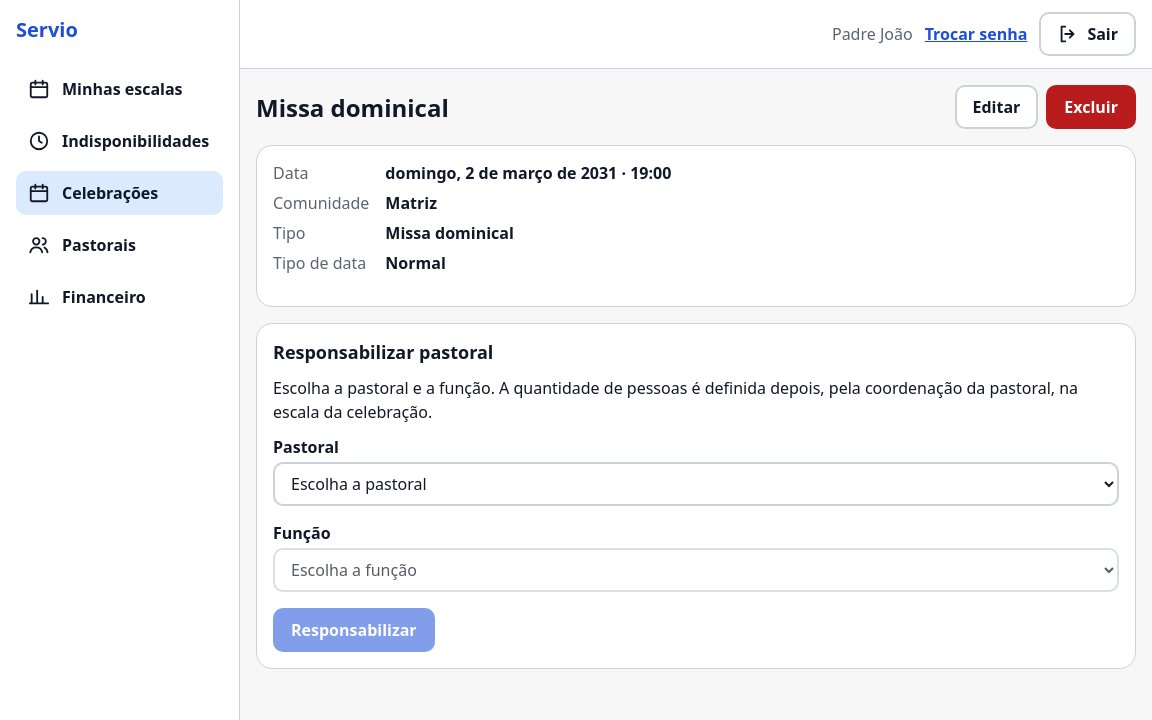
Scenario: Detalhe da celebração (área do padre) › editar salva os campos alterados
Step 1. Click the button "Editar" → point(996, 107), box x1=954 y1=85 x2=1038 y2=129
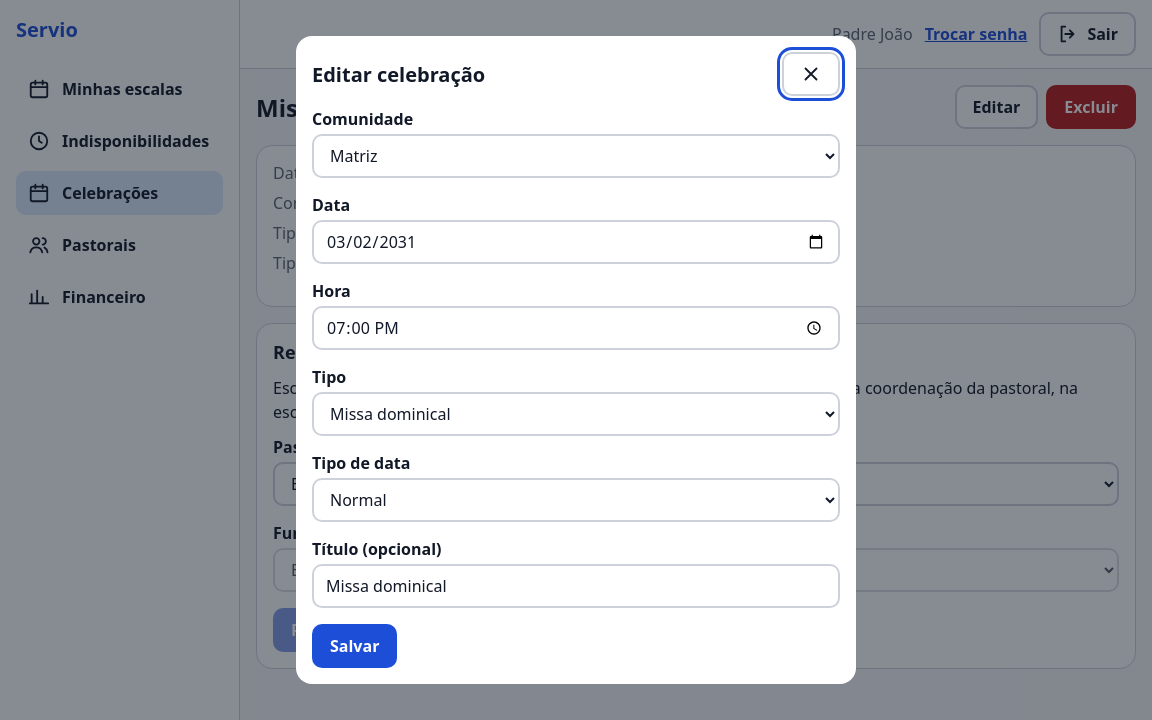
Step 2. Replace the text in the field labelled "Título (opcional)" with "Missa das famílias" → point(576, 586), box x1=312 y1=564 x2=840 y2=608
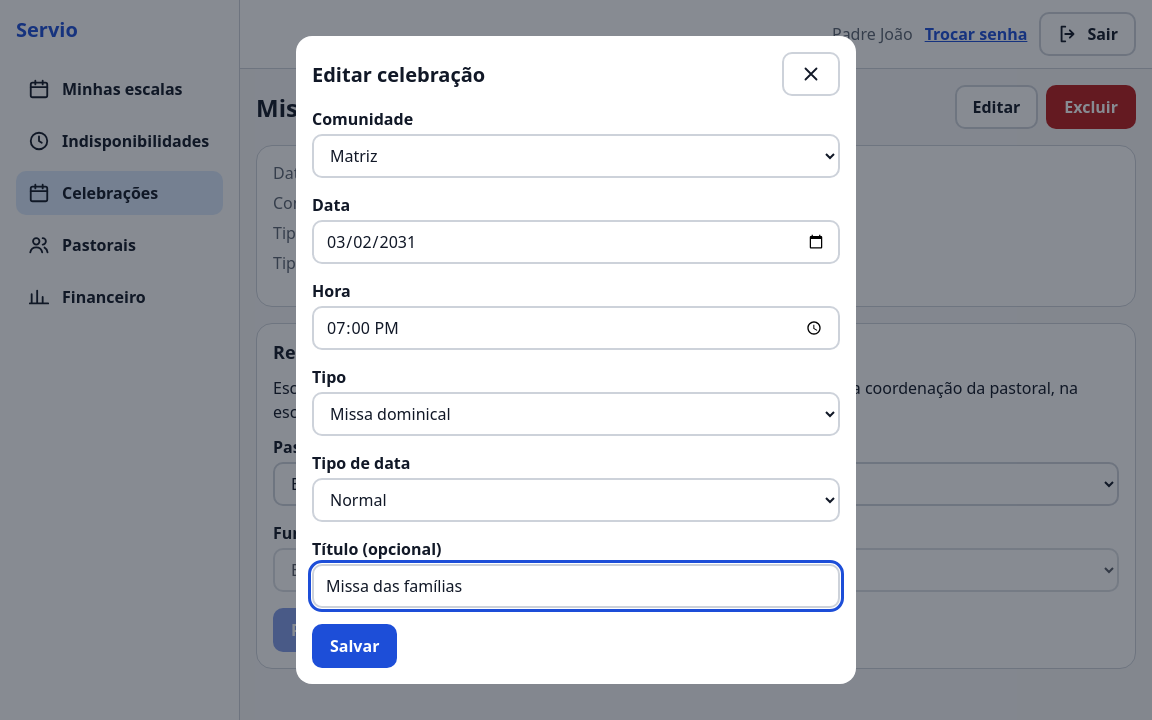
Step 3. Click the button "Salvar" → point(355, 646), box x1=312 y1=624 x2=397 y2=668
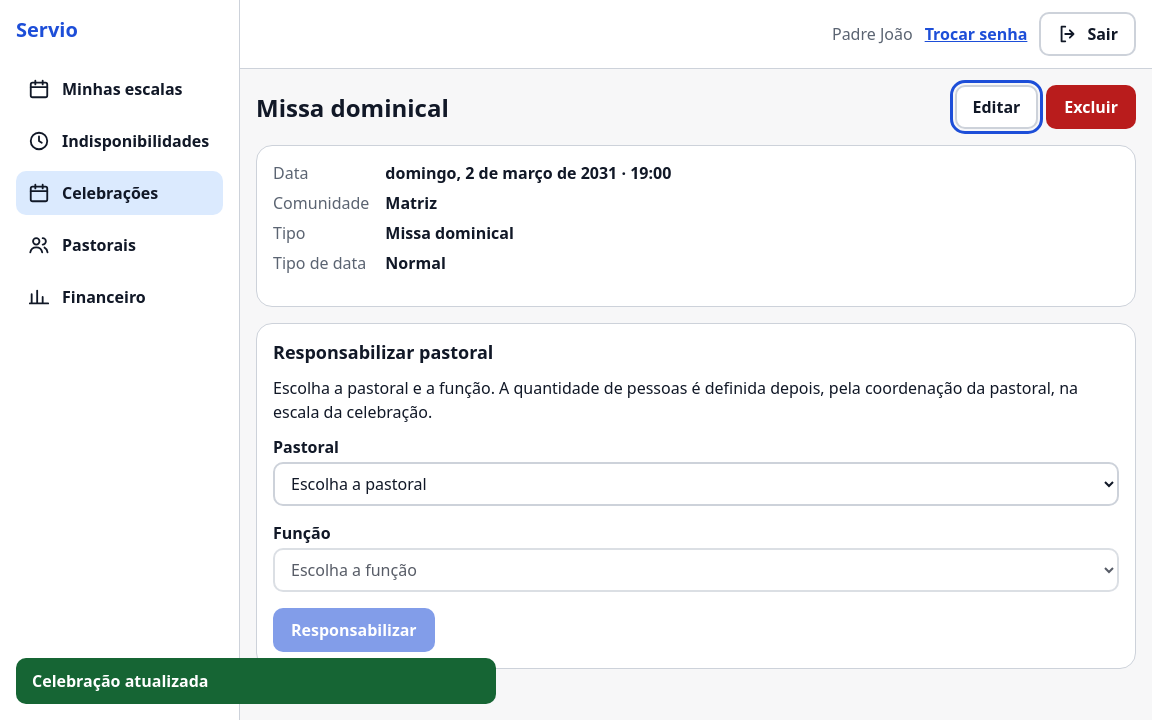
Check: the text "Celebração atualizada" is shown, box x1=16 y1=658 x2=496 y2=704
